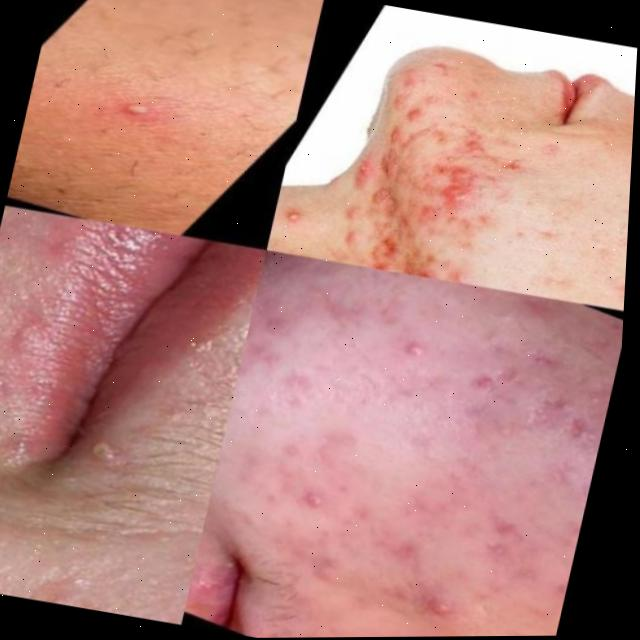Acne: (213, 327, 614, 638), (352, 69, 522, 302), (80, 426, 118, 455), (128, 95, 157, 106)
